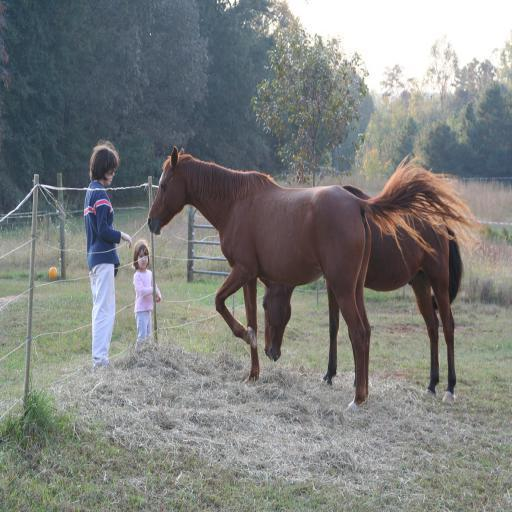horse: (148, 146, 487, 386), (261, 187, 463, 408)
